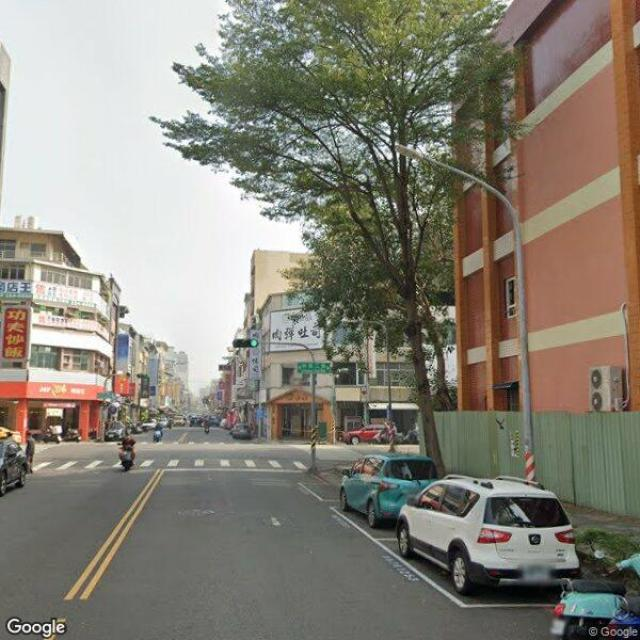Legalparking: (340, 456, 628, 639)
